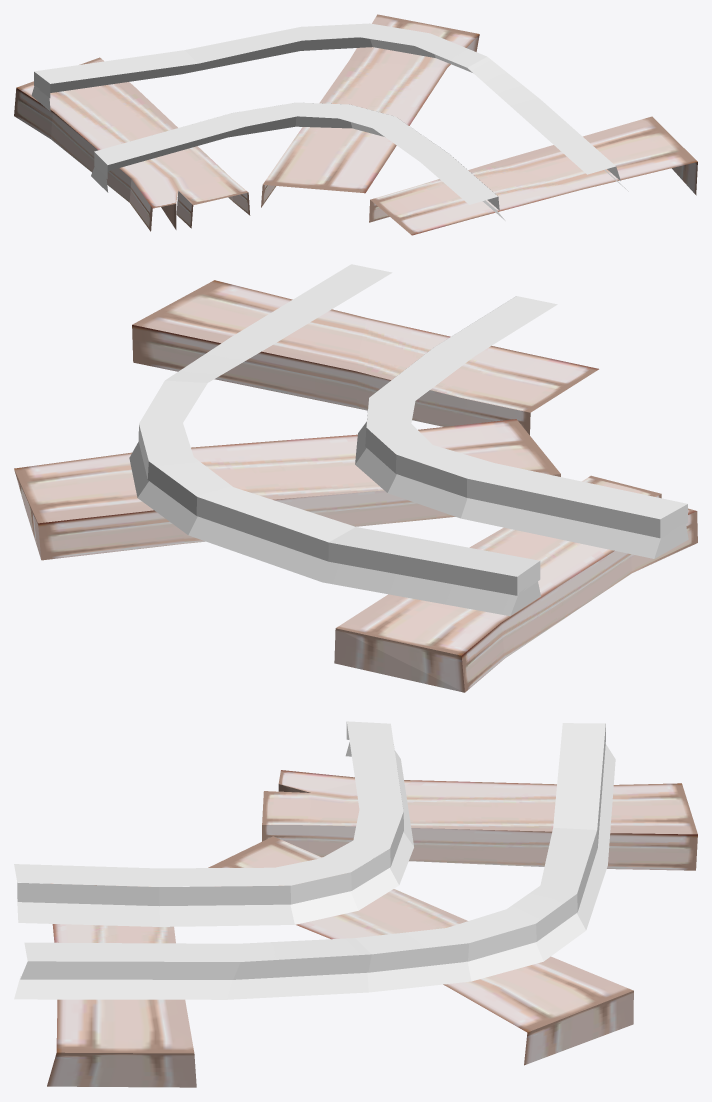
Rendered from obstacle_rails_curve.fbx.
3 views of the same model, one above another, from view 1: azimuth 30°, elevation 25°; view 2: azimuth 150°, elevation 25°; view 3: azimuth 270°, elevation 25° (orthographic). The views are drawn at different scales.
Visible parts, largest first — view 1: MineCartTracksBend; view 2: MineCartTracksBend; view 3: MineCartTracksBend.
Part boxes in pixels (x1,y1,x2,y2): MineCartTracksBend: [14, 14, 697, 235]; MineCartTracksBend: [14, 264, 697, 692]; MineCartTracksBend: [14, 721, 697, 1087].
Bounding box in the file's own units: 1.76 × 0.245 × 1.69.
1 material, 1 textured.
